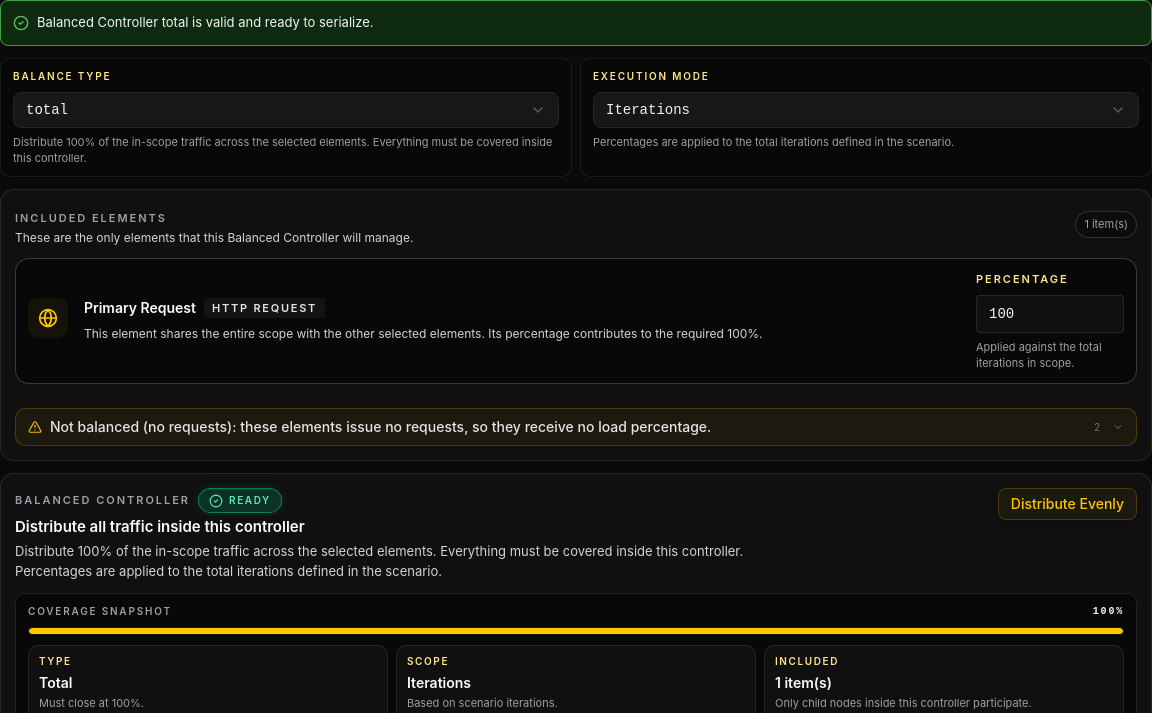
it: BalancedDetails excluded children › renders excluded children in a collapsible list
Expected: the text "Not balanced (no requests): these elements issue no requests, so they receive no load percentage." is shown, [50,418,711,435]
Click the button named "Not balanced (no requests): these elements issue no requests, so they receive no load percentage." at (576, 427), box [16,409,1136,445]
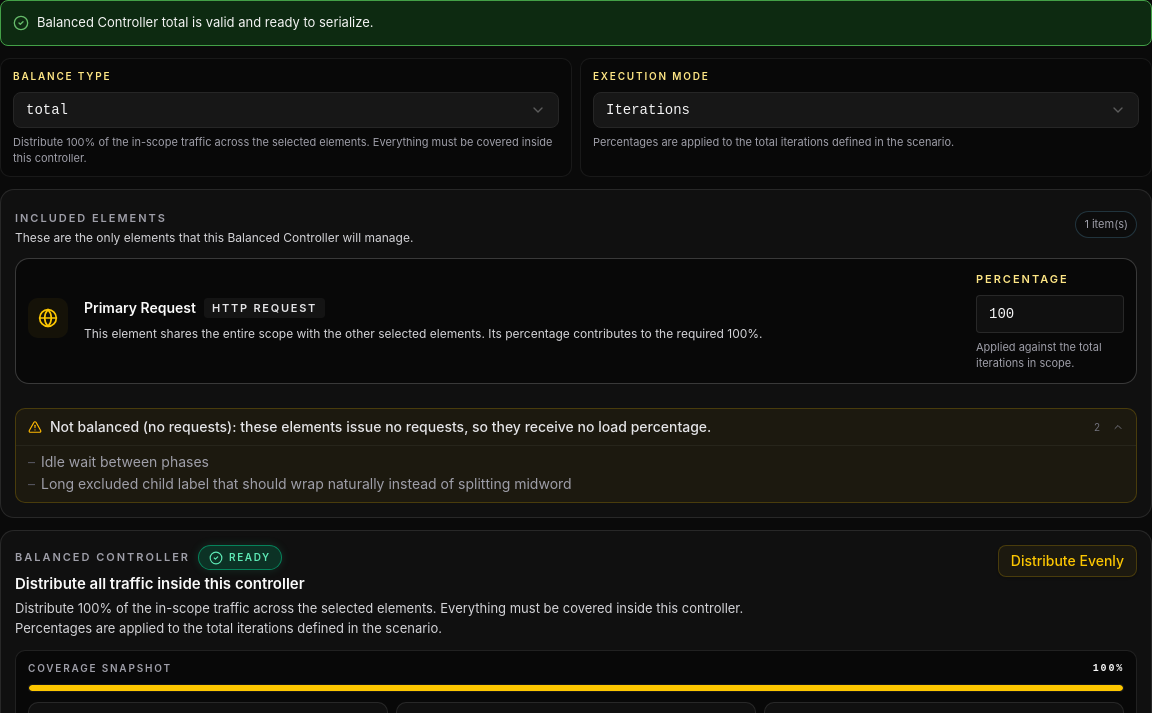
Expected: the number of list items is 2, [28,453,209,470]; [28,475,572,492]
